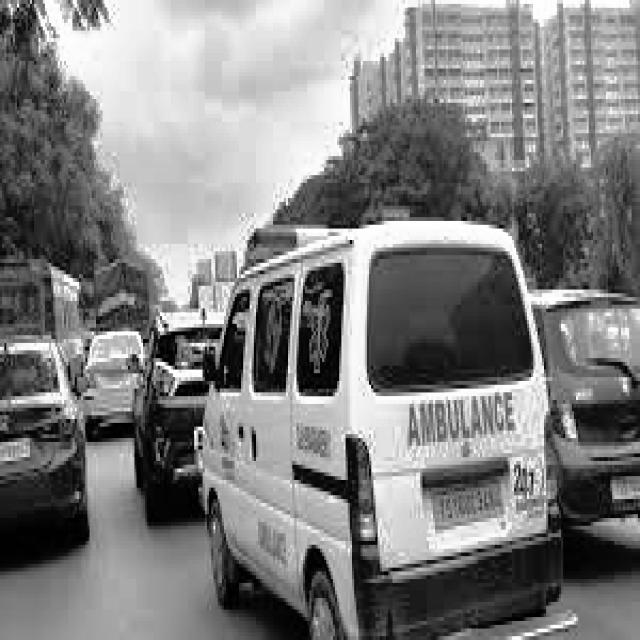Ambulance: (191, 223, 560, 627)
